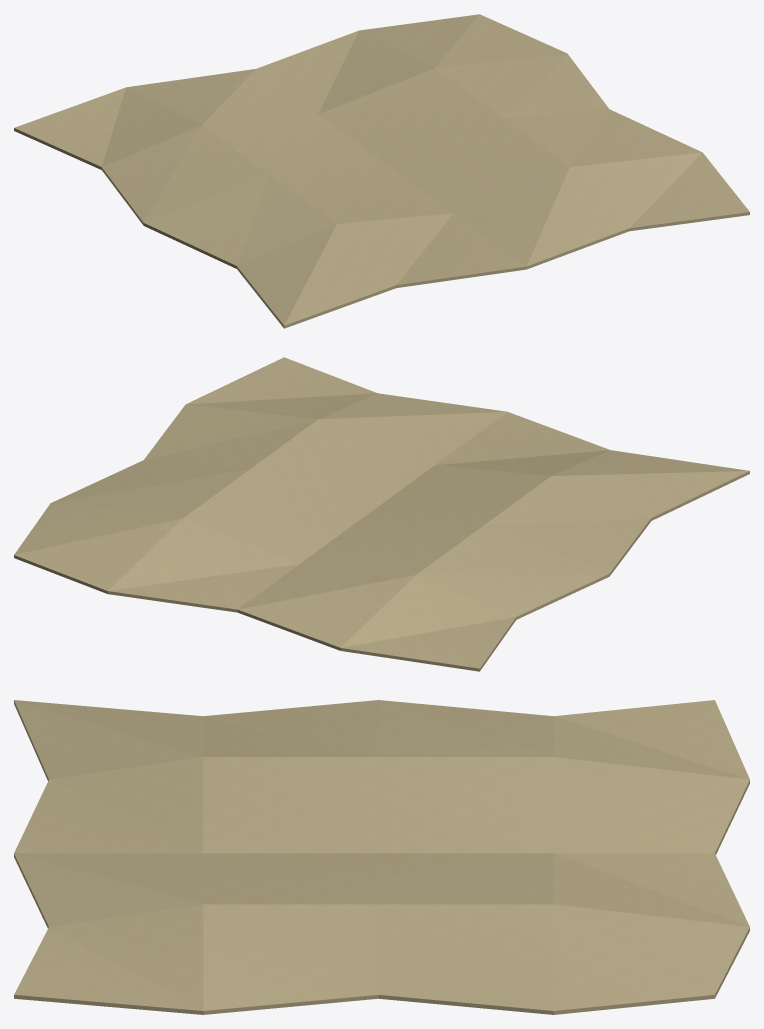
Rendered from WarrensC_CCS74_ClothScrap_Mars_SM.fbx.
The picture shows the model from 3 angles, top to bottom: view 1: azimuth 30°, elevation 25°; view 2: azimuth 150°, elevation 25°; view 3: azimuth 270°, elevation 25°; orthographic projection. The views are drawn at different scales.
Parts seen in each view (by area): view 1: WarrensC_CCS74_ClothScrap_Mars_SM.001; view 2: WarrensC_CCS74_ClothScrap_Mars_SM.001; view 3: WarrensC_CCS74_ClothScrap_Mars_SM.001.
Part boxes in pixels (box(x1,y1,x2,y2)): WarrensC_CCS74_ClothScrap_Mars_SM.001: box(14, 14, 749, 328); WarrensC_CCS74_ClothScrap_Mars_SM.001: box(14, 357, 749, 671); WarrensC_CCS74_ClothScrap_Mars_SM.001: box(14, 700, 749, 1014).
Bounding box in the file's own units: 50 × 50 × 2.
